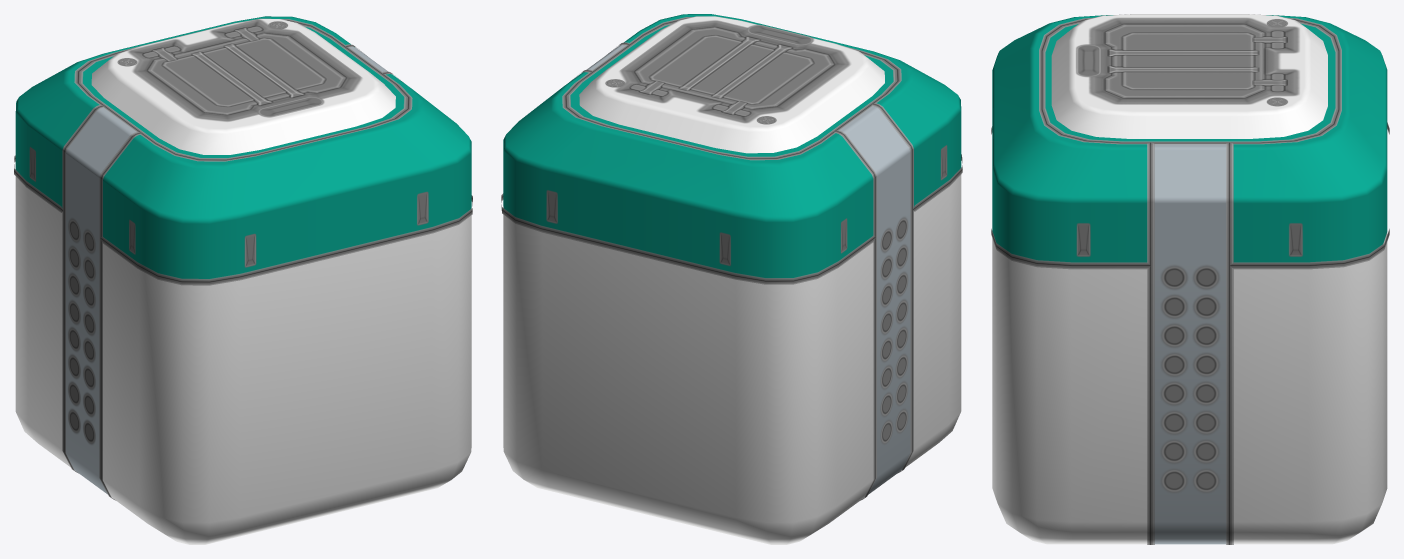
The model's file is cargo-case.glb.
3 views of the same model, side by side, from view 1: azimuth 30°, elevation 25°; view 2: azimuth 150°, elevation 25°; view 3: azimuth 270°, elevation 25° (orthographic). The views are drawn at different scales.
Visible parts, largest first — view 1: Container001, Container001_d; view 2: Container001, Container001_d; view 3: Container001, Container001_d.
Part boxes in pixels (x1=…): Container001: x1=15, y1=16, x2=471, y2=544; Container001_d: x1=14, y1=19, x2=472, y2=500; Container001: x1=503, y1=14, x2=961, y2=544; Container001_d: x1=501, y1=17, x2=962, y2=500; Container001: x1=992, y1=14, x2=1387, y2=544; Container001_d: x1=991, y1=17, x2=1389, y2=544.
Size of the model in its own units: 0.63 by 0.7233 by 0.63.
4 materials, 1 textured.
